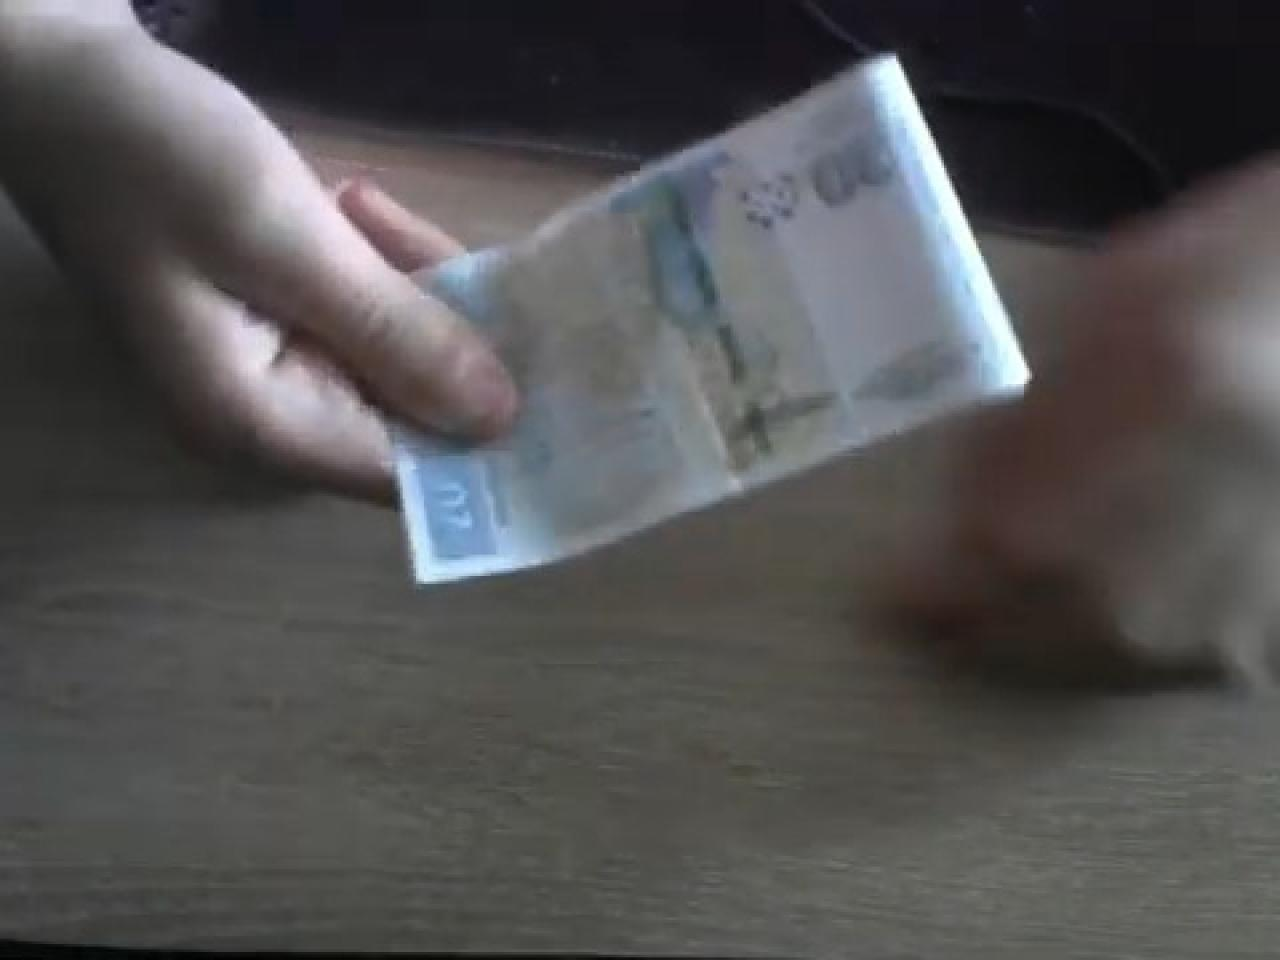20leva: (371, 45, 1034, 590)
